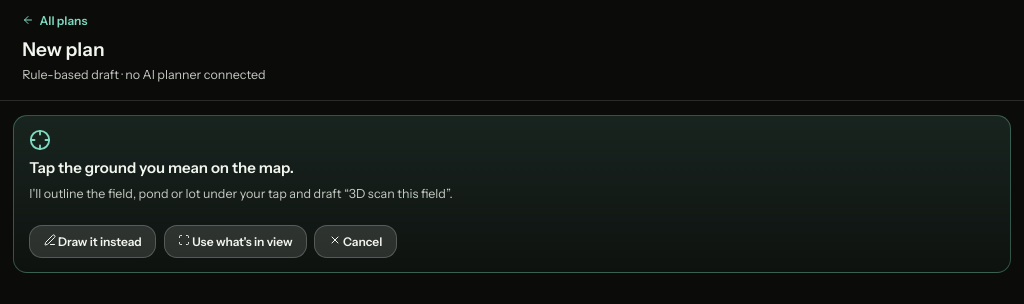
Test case: waiting for the ground under a finger › gives the plan card a Cancel that ends the wait, and no Esc on a phone
Check: the element with test id "plan-awaiting-ground" shows "Tap the ground you mean on the map.", box [13,115,1011,273]
Check: the element with test id "plan-awaiting-ground" does not show "Esc", box [13,115,1011,273]
Click the button "Cancel" at (356, 242), box [314,225,397,258]
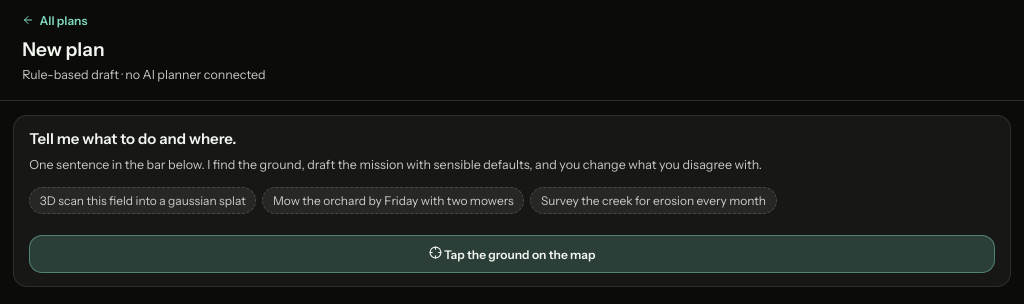
Check: the element with test id "plan-awaiting-ground" is gone
